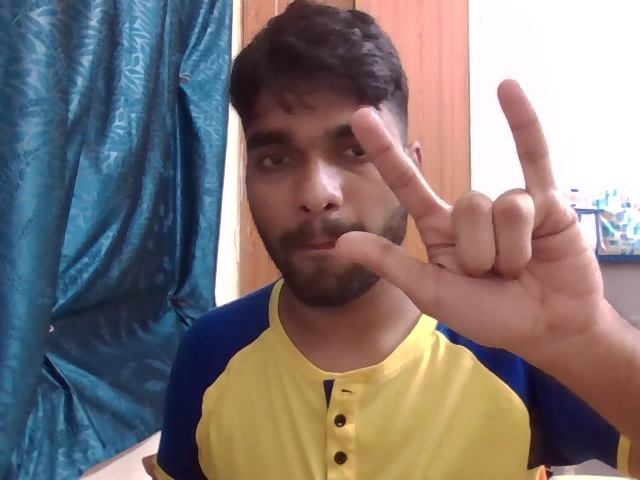I love you: (318, 78, 615, 373)
